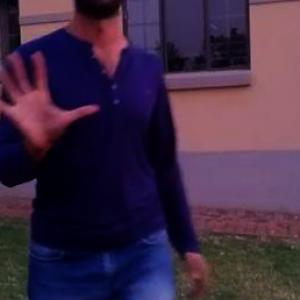follow_hand: (0, 46, 107, 170)
